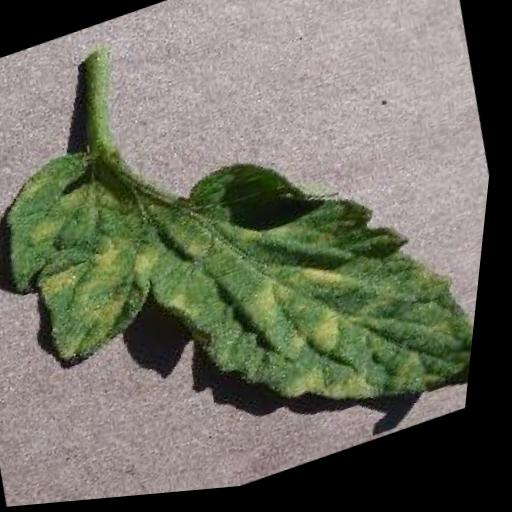Leaf Mold: (0, 30, 507, 511)
